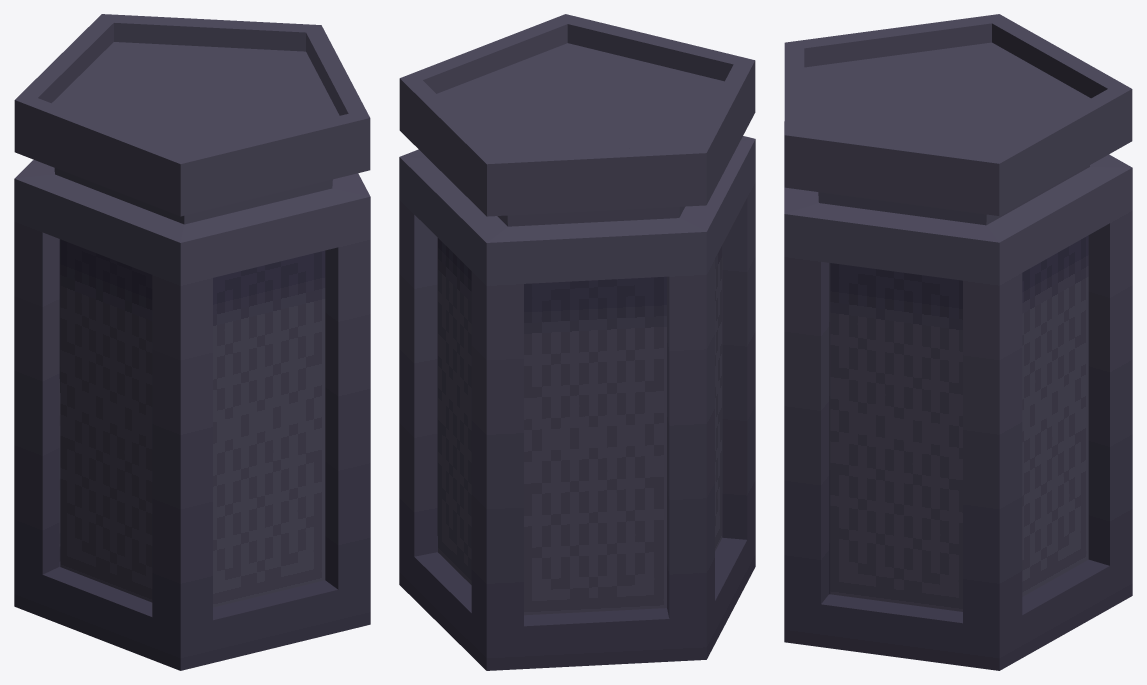
File: tarro.fbx
3 renders of one model, left to right at view 1: azimuth 30°, elevation 25°; view 2: azimuth 150°, elevation 25°; view 3: azimuth 270°, elevation 25°, orthographic.
Visible parts, largest first — view 1: Cylinder; view 2: Cylinder; view 3: Cylinder.
Part boxes in pixels (x1=…): Cylinder: x1=14, y1=14, x2=370, y2=670; Cylinder: x1=399, y1=14, x2=755, y2=670; Cylinder: x1=784, y1=14, x2=1132, y2=670.
Size of the model in its own units: 150 by 237 by 147.
